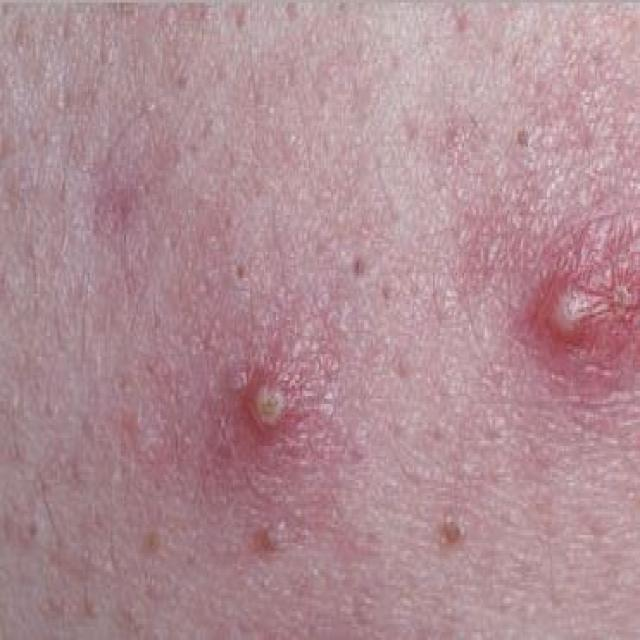blackhead: (440, 515, 464, 555), (262, 522, 282, 556), (516, 128, 530, 149), (27, 517, 39, 541), (148, 530, 160, 554), (354, 256, 366, 278), (234, 260, 246, 281)
nodule: (548, 282, 593, 349)
